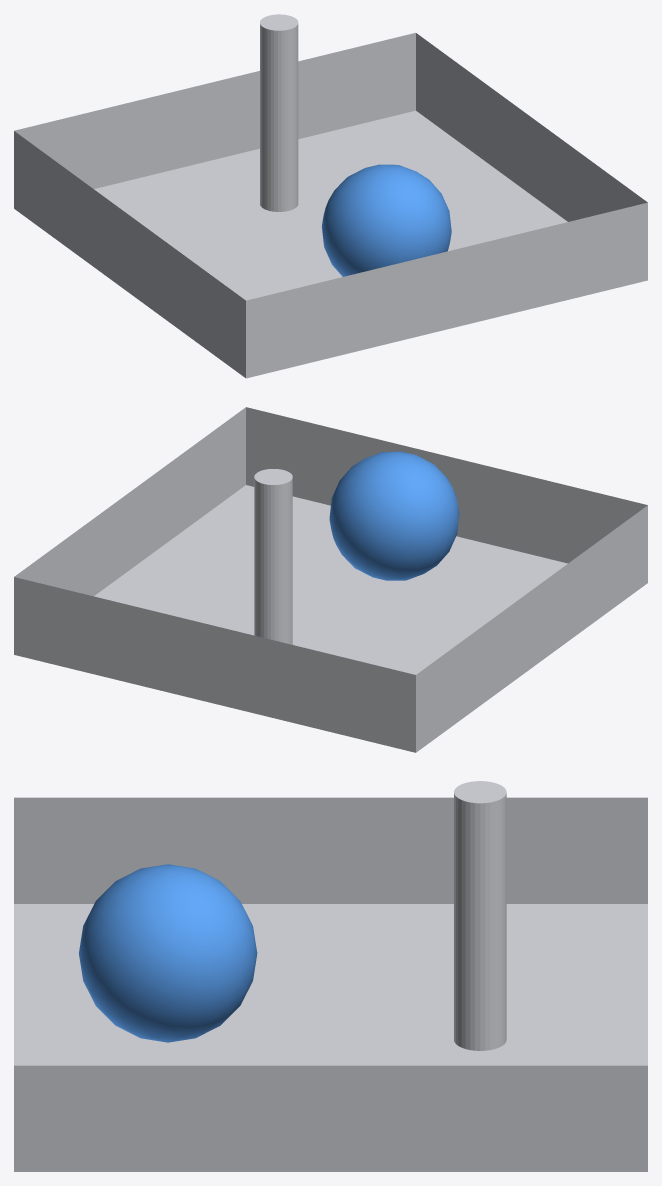
Rendered from ClothWater.glb.
3 renders of one model, top to bottom at view 1: azimuth 30°, elevation 25°; view 2: azimuth 150°, elevation 25°; view 3: azimuth 270°, elevation 25°, orthographic. The views are drawn at different scales.
Parts seen in each view (by area): view 1: Plane.001, Icosphere.003; view 2: Plane.001, Icosphere.003; view 3: Plane.001, Icosphere.003.
Boxes of the visible parts, x1,y1,x2,y2 form: Plane.001: (14, 14, 647, 378); Icosphere.003: (321, 164, 451, 276); Plane.001: (14, 407, 647, 752); Icosphere.003: (329, 451, 459, 580); Plane.001: (14, 781, 647, 1171); Icosphere.003: (79, 864, 257, 1042).
Size of the model in its own units: 7.1 by 3.38 by 7.1.
